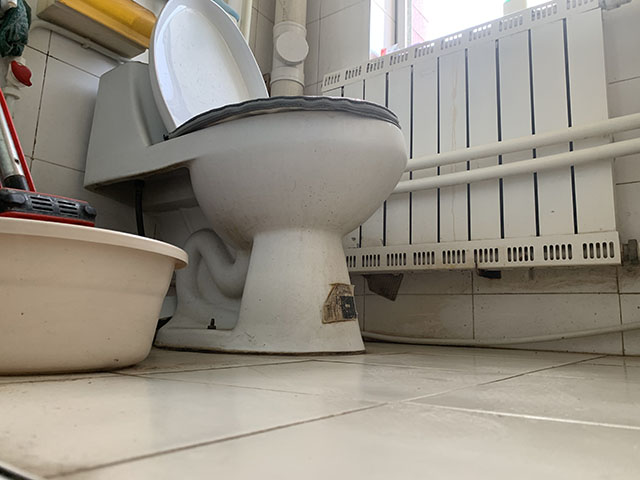closestool: (81, 1, 409, 357)
